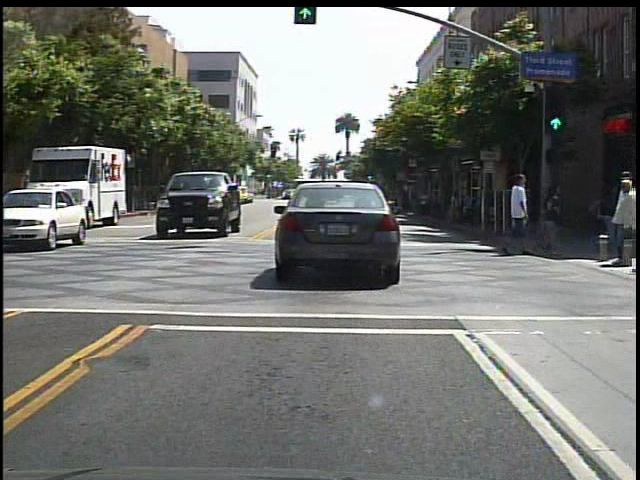person: (502, 159, 539, 257), (609, 167, 638, 269), (415, 186, 434, 219), (547, 174, 548, 255)
